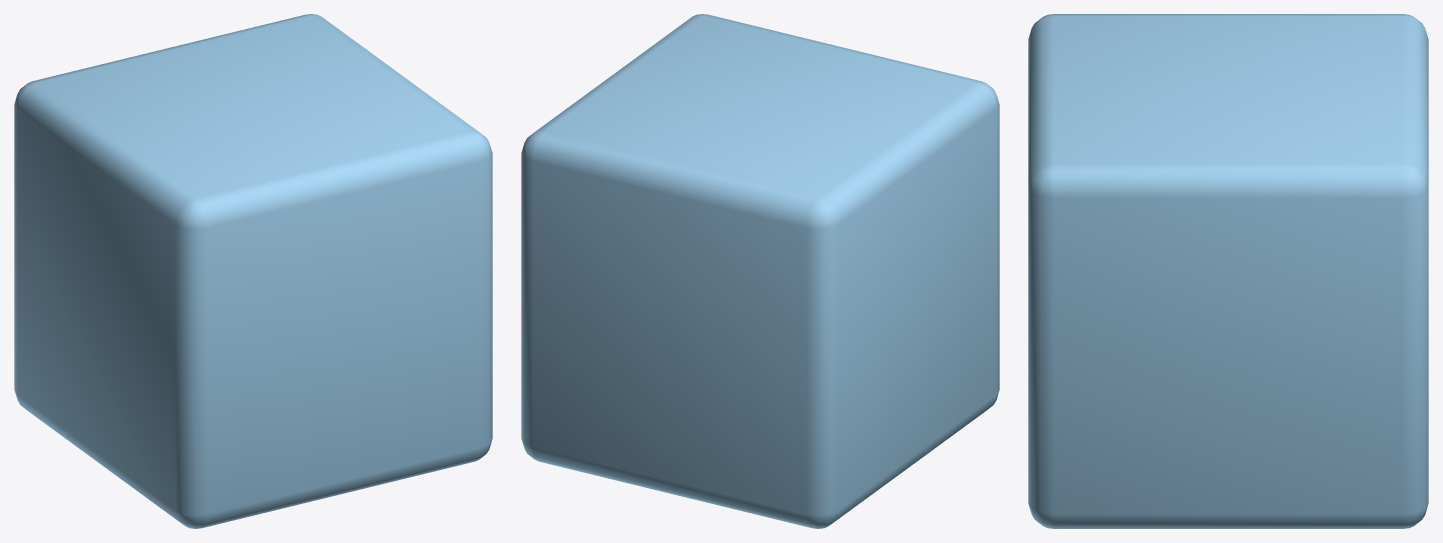
File: SimpleCube_GLTF.gltf
The picture shows the model from 3 angles, left to right: view 1: azimuth 30°, elevation 25°; view 2: azimuth 150°, elevation 25°; view 3: azimuth 270°, elevation 25°; orthographic projection. The views are drawn at different scales.
Visible parts, largest first — view 1: Cube; view 2: Cube; view 3: Cube.
Part boxes in pixels (left/top/right/bottom): Cube: left=14, top=14, right=492, bottom=528; Cube: left=521, top=14, right=999, bottom=528; Cube: left=1028, top=14, right=1428, bottom=528.
Size of the model in its own units: 2 by 2 by 2.
